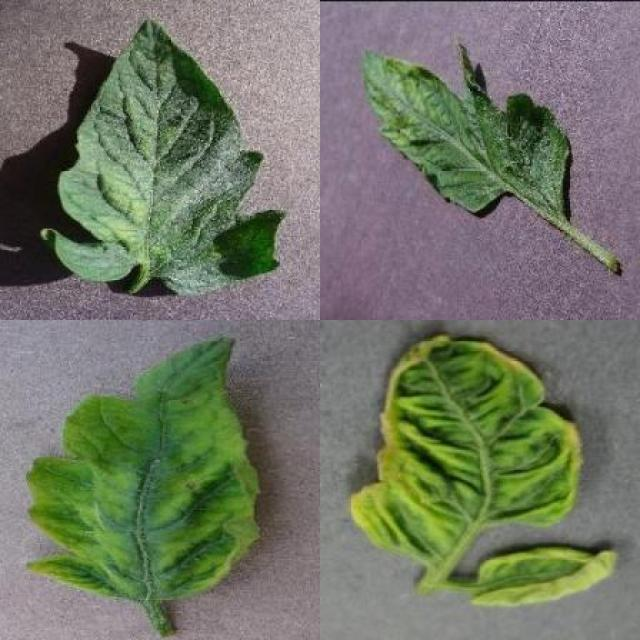Mosaic Virus: (358, 40, 572, 226)
Spider Mites: (44, 13, 286, 298)
Yellow Leaf Curl Virus: (23, 335, 264, 598), (348, 334, 583, 560), (468, 547, 618, 607)
